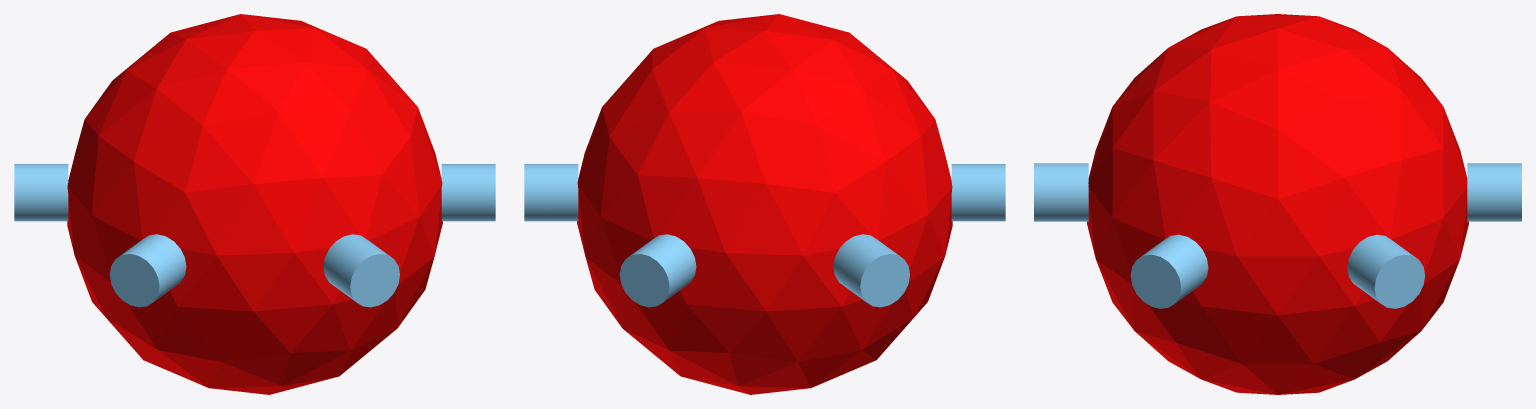
The model's file is Holo_habitation.fbx.
The picture shows the model from 3 angles, left to right: view 1: azimuth 30°, elevation 25°; view 2: azimuth 150°, elevation 25°; view 3: azimuth 270°, elevation 25°; orthographic projection.
Visible parts, largest first — view 1: Holo_Habitation, Connexion (×4); view 2: Holo_Habitation, Connexion (×4); view 3: Holo_Habitation, Connexion (×4).
Part boxes in pixels (x1,y1,x2,y2): Holo_Habitation: [67, 14, 442, 394]; Connexion (×4): [14, 164, 495, 307]; Holo_Habitation: [577, 14, 952, 394]; Connexion (×4): [524, 164, 1005, 307]; Holo_Habitation: [1087, 14, 1468, 394]; Connexion (×4): [1034, 163, 1521, 308].
Size of the model in its own units: 722 by 621 by 780.
